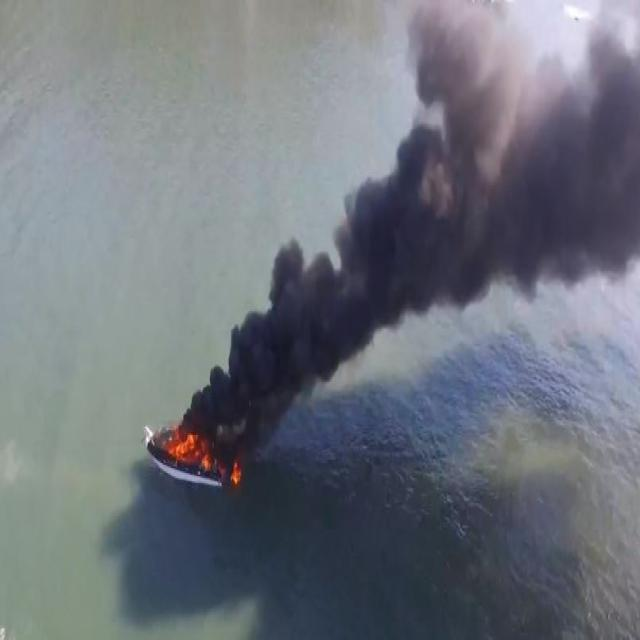Fire: (163, 425, 214, 475), (232, 458, 242, 486)
Smoke: (171, 8, 637, 473)
